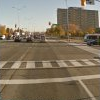crosswalk: (0, 58, 99, 69)
